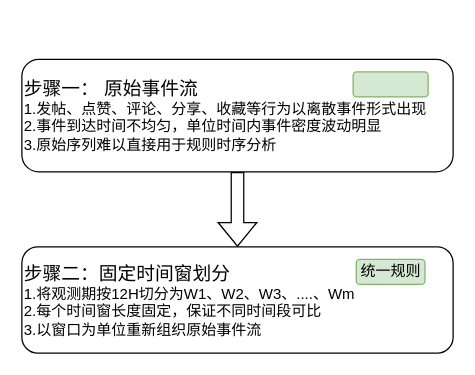
Image size: 475x375. Some labels were removed from this diagram. Each missing label, with the box of its shape:
从不规则事件流到规则多变时间序列的构造路径: (28, 21, 428, 59)
输入数据: (352, 71, 428, 97)
